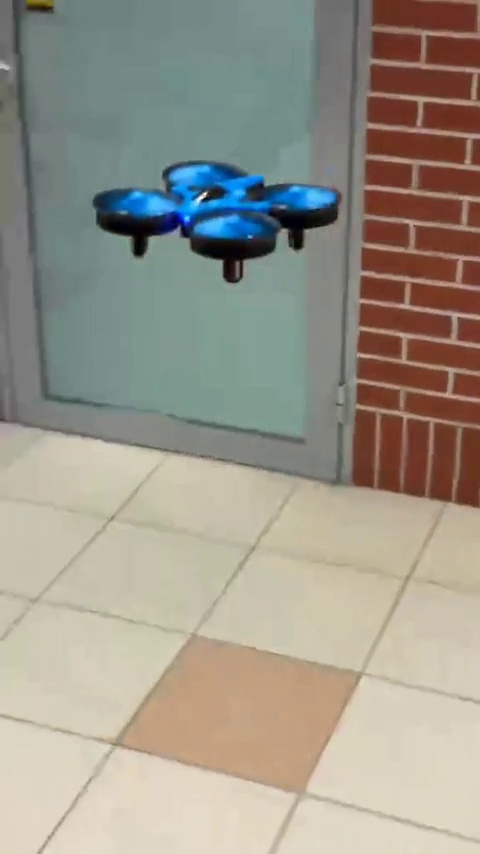drone: (81, 159, 340, 285)
